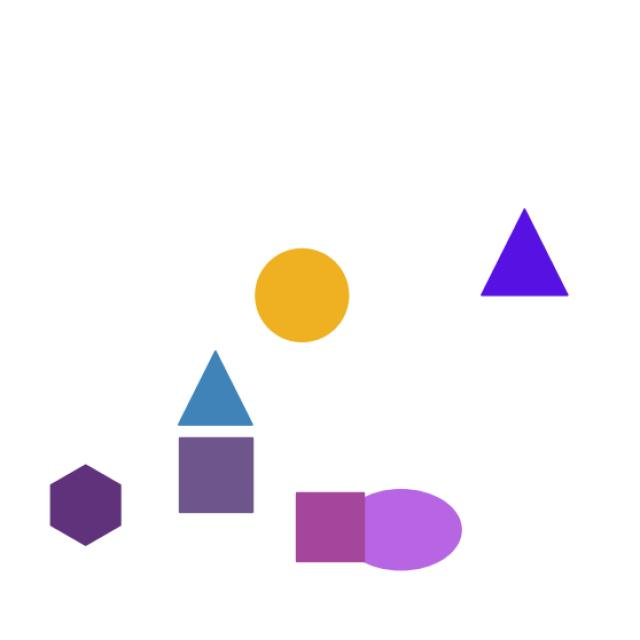Circle: (239, 244, 357, 356)
Hexagon: (38, 458, 134, 555)
Oval: (333, 480, 480, 586)
Triangle: (466, 196, 583, 316), (164, 339, 258, 431)
square: (172, 428, 281, 532), (284, 481, 381, 575)
